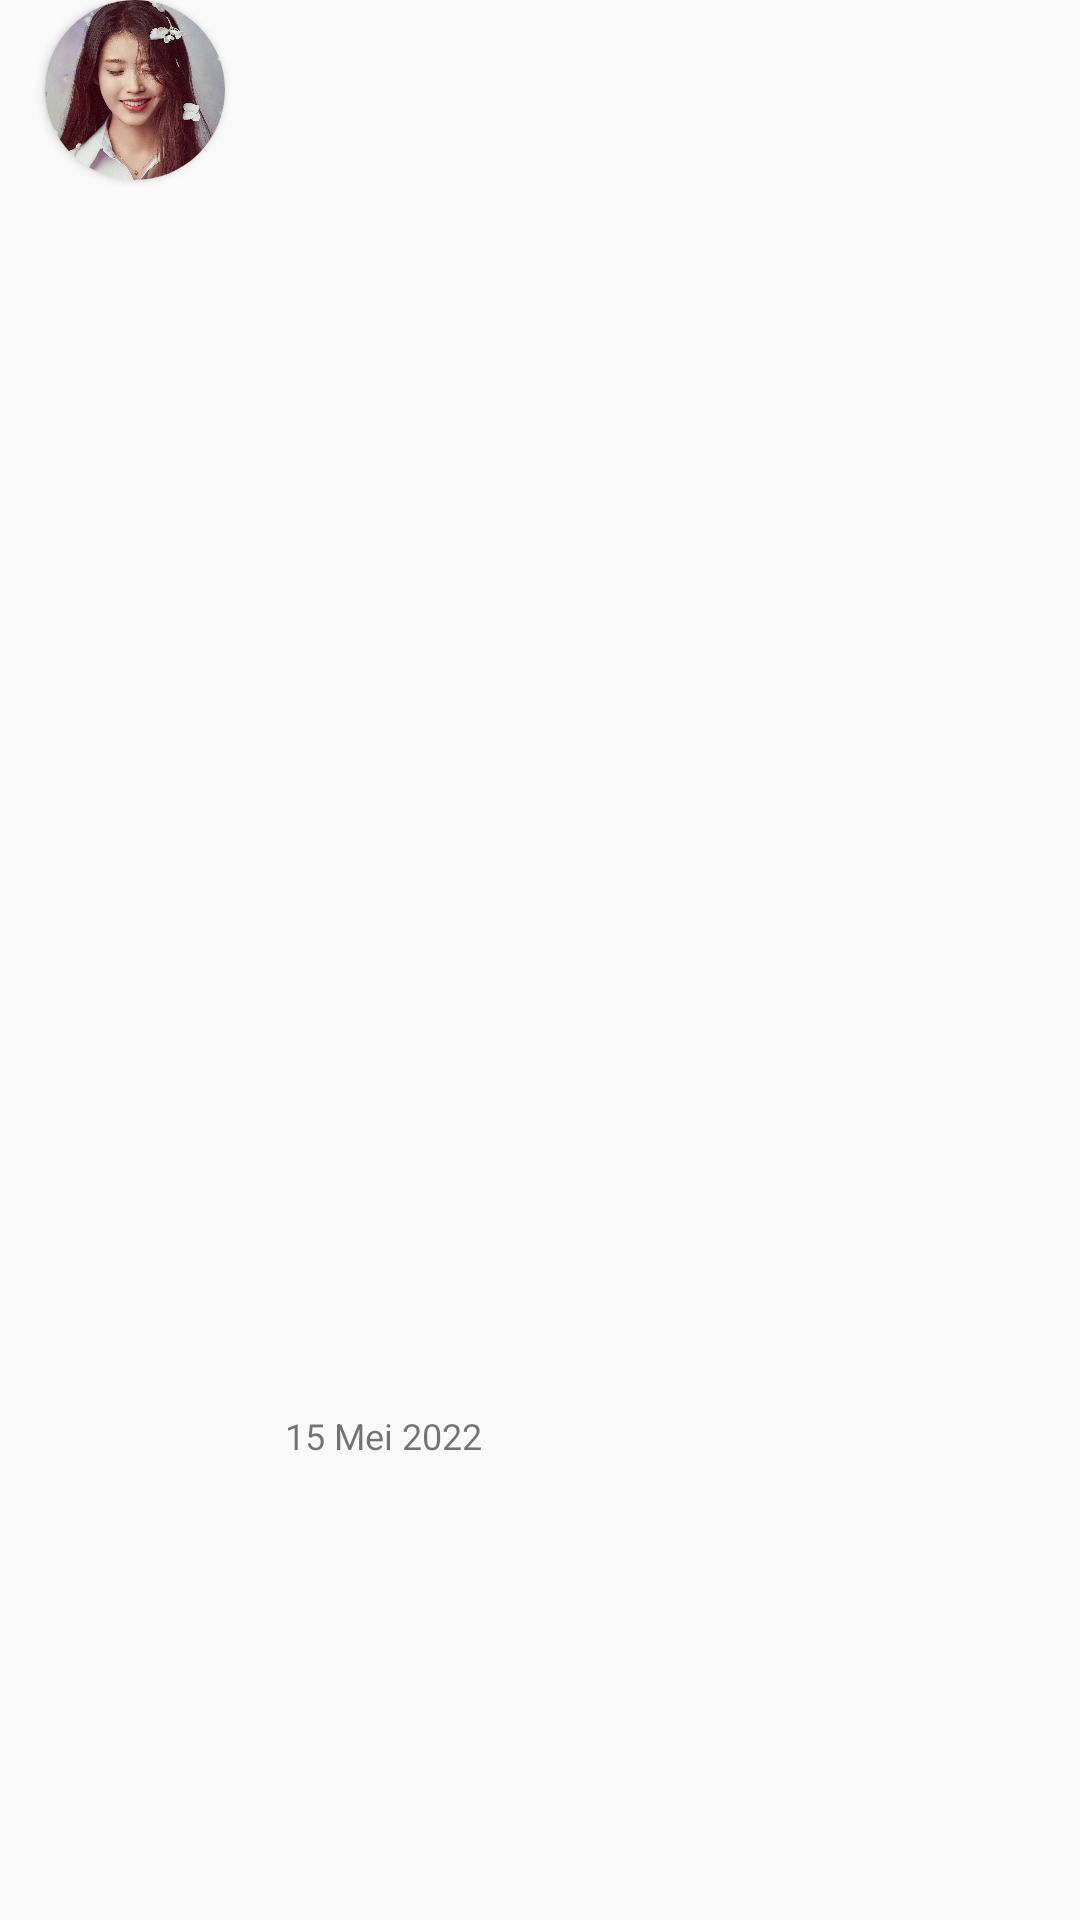

Where icons sit on this 1080 x 1920 app screen, as (x1, y1, x2, y2):
iu profile: (45, 0, 225, 180)
